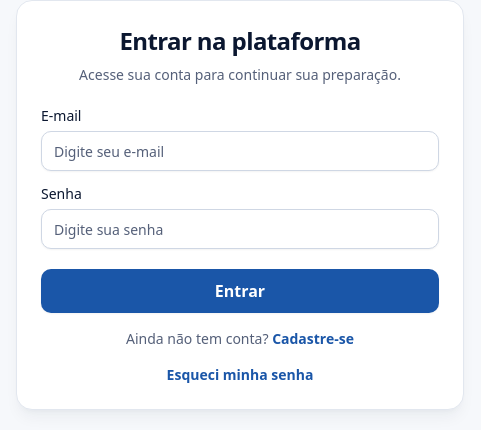
TelaLogin › mostra o estado de carregamento enquanto o Supabase responde
Type "ana@email.com" into the field labelled "E-mail" at x=240, y=151, box x1=41 y1=131 x2=439 y2=171
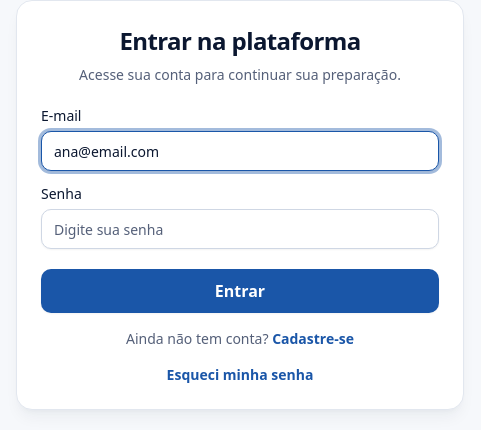
Type "senha1234" into the password field labelled "Senha" at x=240, y=229, box x1=41 y1=209 x2=439 y2=249
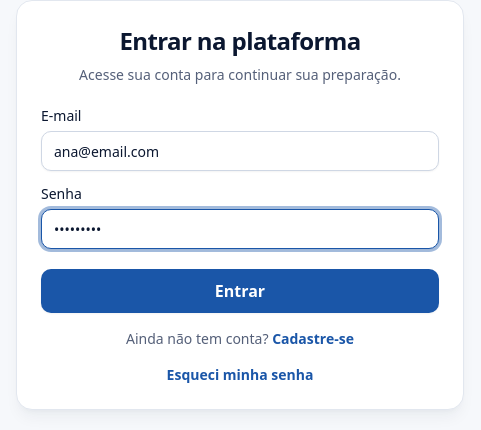
Click the button "Entrar" at x=240, y=291, box x1=41 y1=269 x2=439 y2=313
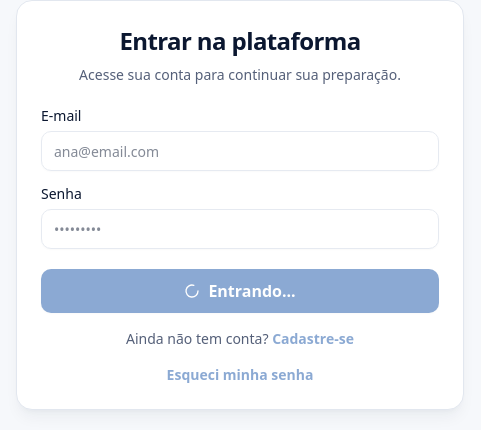
Check: the button "Entrando..." is disabled, box x1=41 y1=269 x2=439 y2=313
Check: the field labelled "E-mail" is disabled, box x1=41 y1=131 x2=439 y2=171
